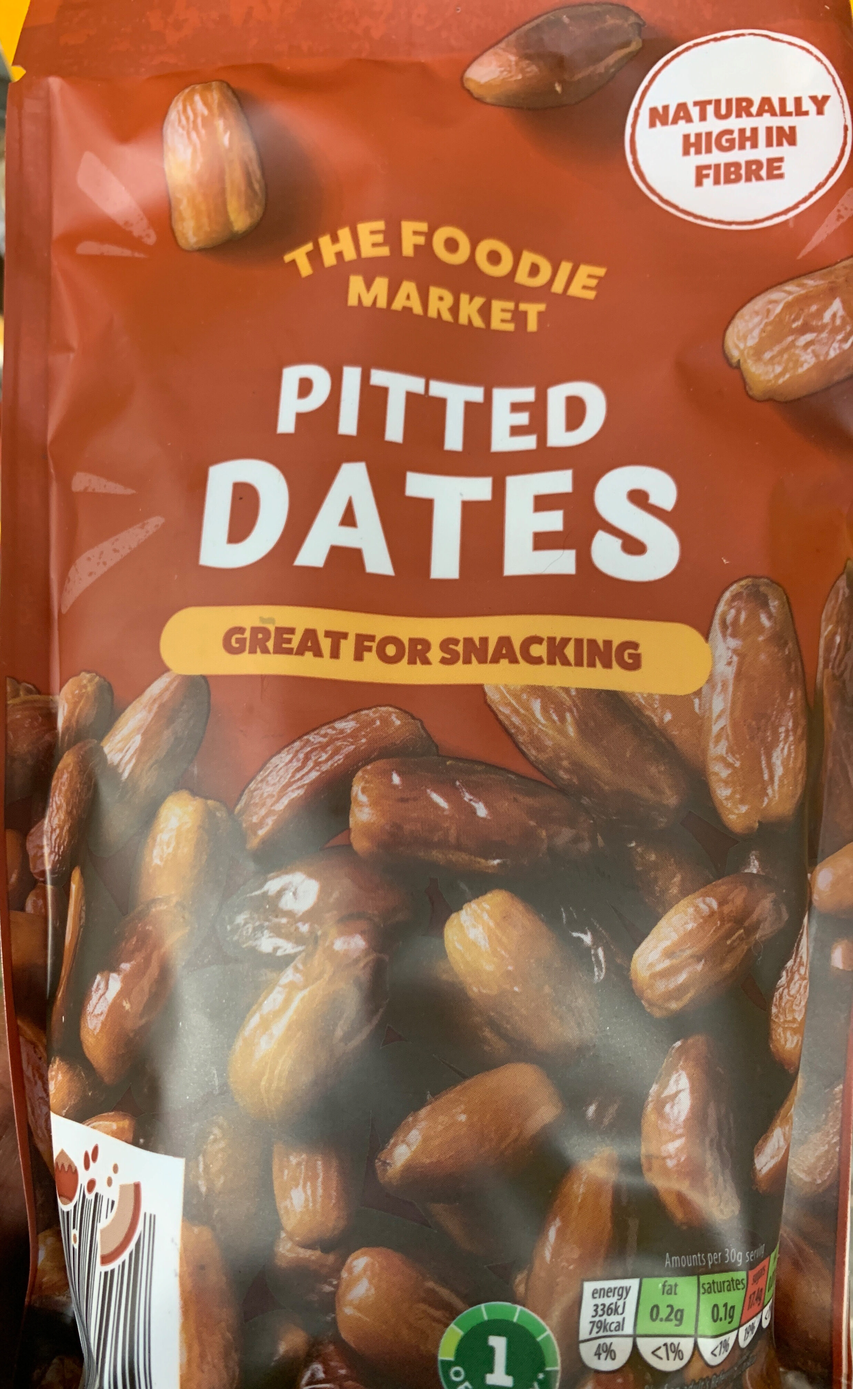Pitted Dates: (43, 69, 810, 1320)
